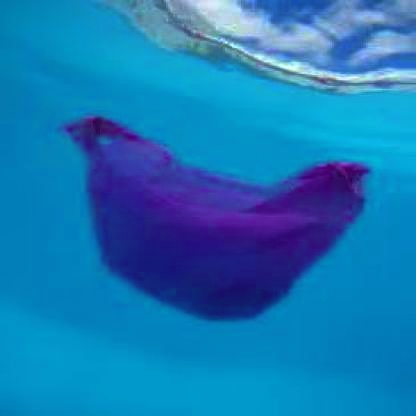pbag: (59, 112, 371, 324)
